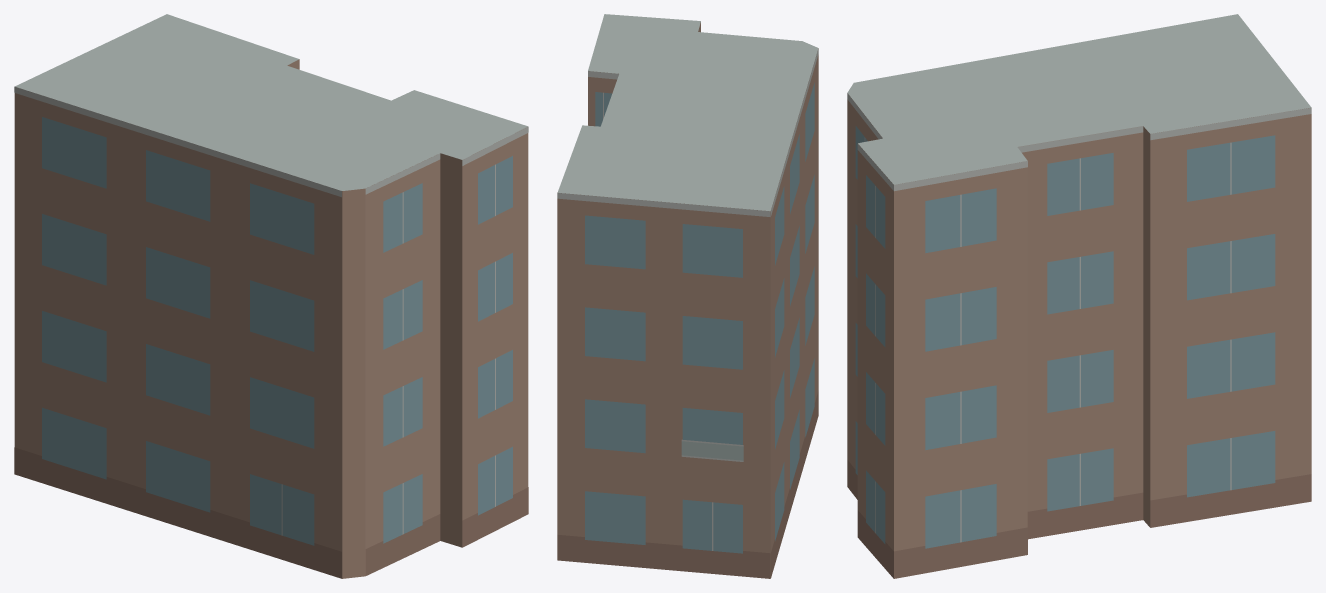
File: survey-upis-33024107.glb
3 renders of one model, left to right at view 1: azimuth 30°, elevation 25°; view 2: azimuth 150°, elevation 25°; view 3: azimuth 270°, elevation 25°, orthographic. The views are drawn at different scales.
Visible parts, largest first — view 1: survey-upis-33024107.tmp; view 2: survey-upis-33024107.tmp; view 3: survey-upis-33024107.tmp.
Boxes of the visible parts, x1,y1,x2,y2 form: survey-upis-33024107.tmp: (14,14,528,578); survey-upis-33024107.tmp: (557,14,818,578); survey-upis-33024107.tmp: (847,14,1311,578).
Size of the model in its own units: 14.06 by 15.1 by 16.14.
